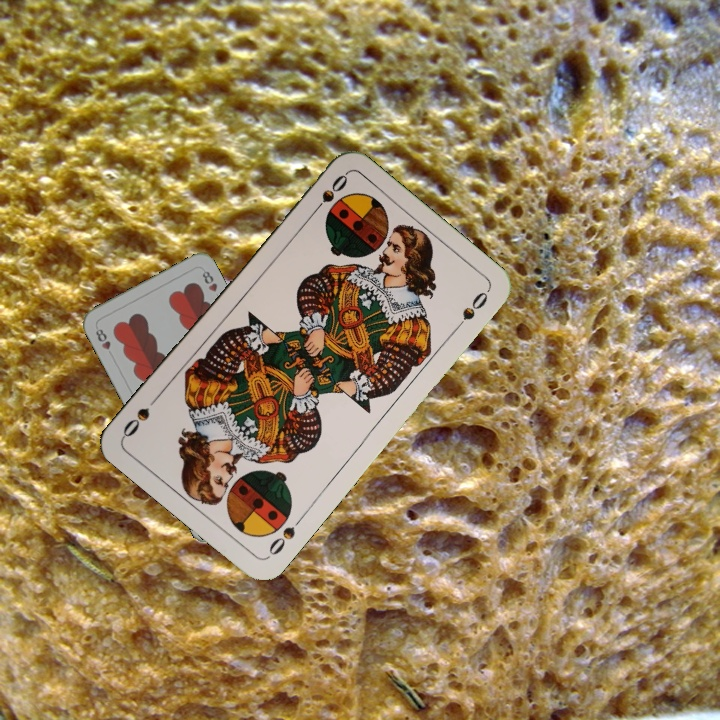H8: (91, 324, 113, 352)
SO: (306, 170, 351, 219), (264, 511, 307, 560)
